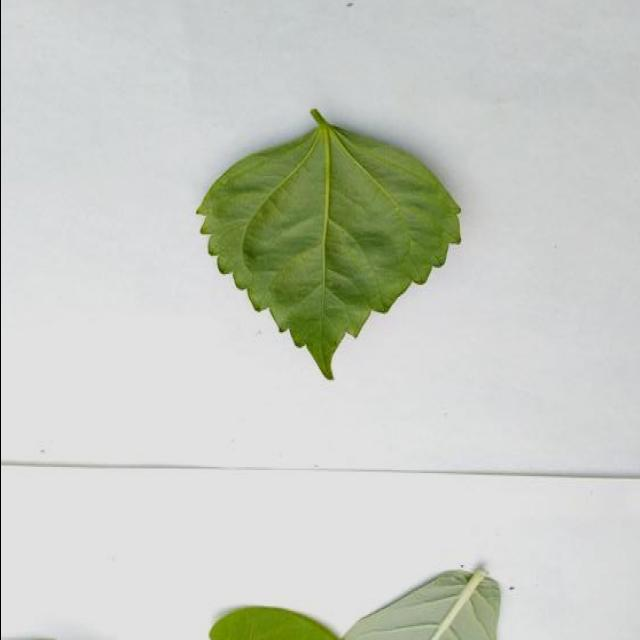leaf: (195, 107, 462, 380), (340, 567, 501, 639), (207, 604, 338, 639)
